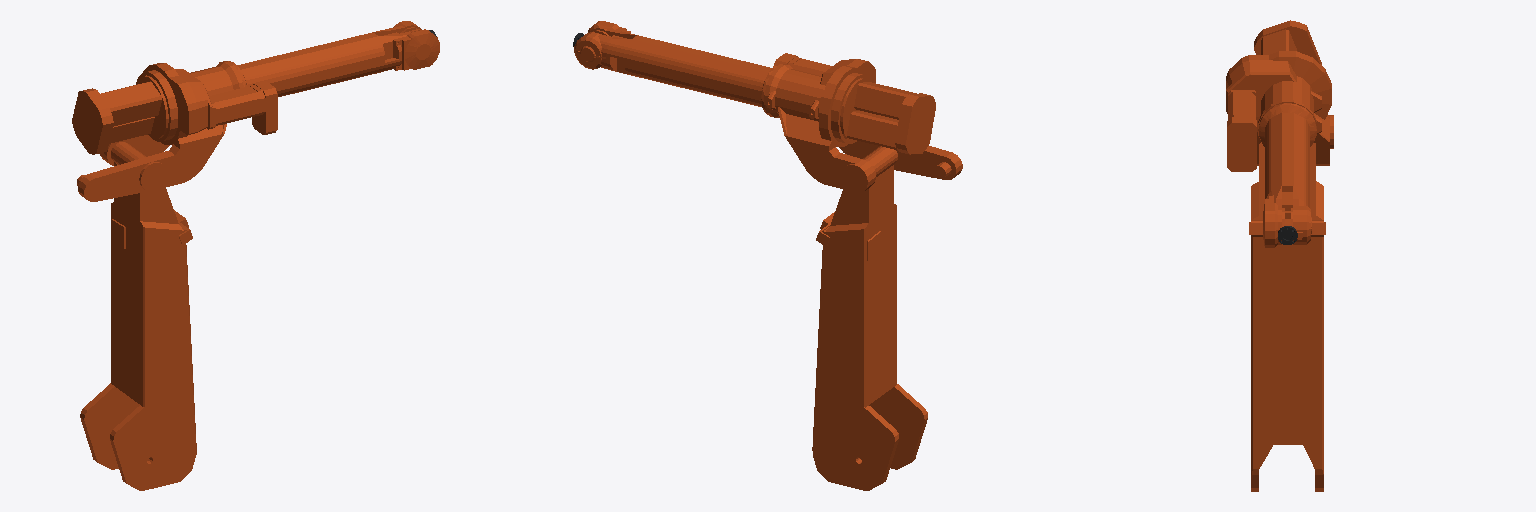
The robot description file, URDF, robot "abb_irb2400":
<?xml version="1.0" ?>
<!-- =================================================================================== -->
<!-- |    This document was autogenerated by xacro from irb2400.xacro                  | -->
<!-- |    EDITING THIS FILE BY HAND IS NOT RECOMMENDED                                 | -->
<!-- =================================================================================== -->
<robot name="abb_irb2400" xmlns:xacro="http://ros.org/wiki/xacro">
  <!-- Conversion were obtained from http://www.e-paint.co.uk/Lab_values.asp
       unless otherwise stated. -->
  <!-- Actual colors -->
  <!-- NCS 2070-Y60R orange, standard robot color 1974 - May 2014 -->
  <!-- RAL 7035 light grey (abb graphite white), standard robot color May 2014 - current -->
  <!-- RAL 9003 signal white (abb white), cleanroom robot color -->
  <!-- RAL 7032 pebble gray, controller -->
  <!-- RAL 7012 basalt gray (abb dark gray) , robot primer -->
  <!-- RAL 7021 black gray (abb black) , robot with dark link color -->
  <!-- Other robot colours availble, but not limited too. -->
  <!-- RAL 3001 signal red -->
  <!-- RAL 3002 carmine red -->
  <!-- RAL 5002 ultramarine blue -->
  <!-- RAL 5015 sky blue -->
  <!-- RAL 6002 leaf green -->
  <!-- RAL 9002 gray white -->
  <!-- RAL 9010 pure white -->
  <!-- approximations -->
  <!-- yellow, collision model -->
  <!-- link list -->

  <link name="world"/>

  <joint name="reference" type="fixed">
      <parent link="world"/>
      <child link="base_link"/>
  </joint>

  <link name="base_link"/>
  
  <link name="base">
    <visual>
      <origin rpy="0 0 0" xyz="0 0 0"/>
      <geometry>
        <mesh filename="package://abb_irb2400_support/meshes/irb2400/visual/base_link.dae"/>
      </geometry>
      <material name="">
        <color rgba="0.7372549 0.3490196 0.1607843 1"/>
      </material>
    </visual>
    <collision>
      <geometry>
        <mesh filename="package://abb_irb2400_support/meshes/irb2400/collision/base_link.stl"/>
      </geometry>
      <material name="">
        <color rgba="1 1 0 1"/>
      </material>
    </collision>
  </link>
  
  <link name="link_1">
    <visual>
      <origin rpy="0 0 0" xyz="0 0 0"/>
      <geometry>
        <mesh filename="package://abb_irb2400_support/meshes/irb2400/visual/link_1.dae"/>
      </geometry>
      <material name="">
        <color rgba="0.7372549 0.3490196 0.1607843 1"/>
      </material>
    </visual>
    <collision>
      <origin rpy="0 0 0" xyz="0 0 0"/>
      <geometry>
        <mesh filename="package://abb_irb2400_support/meshes/irb2400/collision/link_1.stl"/>
      </geometry>
      <material name="">
        <color rgba="1 1 0 1"/>
      </material>
    </collision>
  </link>
  <link name="link_2">
    <visual>
      <origin rpy="0 0 0" xyz="0 0 0"/>
      <geometry>
        <mesh filename="package://abb_irb2400_support/meshes/irb2400/visual/link_2.dae"/>
      </geometry>
      <material name="">
        <color rgba="0.7372549 0.3490196 0.1607843 1"/>
      </material>
    </visual>
    <collision>
      <origin rpy="0 0 0" xyz="0 0 0"/>
      <geometry>
        <mesh filename="package://abb_irb2400_support/meshes/irb2400/collision/link_2_whole.stl"/>
      </geometry>
      <material name="">
        <color rgba="1 1 0 1"/>
      </material>
    </collision>
  </link>
  <link name="link_3">
    <visual>
      <origin rpy="0 0 0" xyz="0 0 0"/>
      <geometry>
        <mesh filename="package://abb_irb2400_support/meshes/irb2400/visual/link_3.dae"/>
      </geometry>
      <material name="">
        <color rgba="0.7372549 0.3490196 0.1607843 1"/>
      </material>
    </visual>
    <collision>
      <origin rpy="0 0 0" xyz="0 0 0"/>
      <geometry>
        <mesh filename="package://abb_irb2400_support/meshes/irb2400/collision/link_3.stl"/>
      </geometry>
      <material name="">
        <color rgba="1 1 0 1"/>
      </material>
    </collision>
  </link>
  <link name="link_4">
    <visual>
      <origin rpy="0 0 0" xyz="0 0 0"/>
      <geometry>
        <mesh filename="package://abb_irb2400_support/meshes/irb2400/visual/link_4.dae"/>
      </geometry>
      <material name="">
        <color rgba="0.7372549 0.3490196 0.1607843 1"/>
      </material>
    </visual>
    <collision>
      <origin rpy="0 0 0" xyz="0 0 0"/>
      <geometry>
        <mesh filename="package://abb_irb2400_support/meshes/irb2400/collision/link_4.stl"/>
      </geometry>
      <material name="">
        <color rgba="1 1 0 1"/>
      </material>
    </collision>
  </link>
  <link name="link_5">
    <visual>
      <origin rpy="0 0 0" xyz="0 0 0"/>
      <geometry>
        <mesh filename="package://abb_irb2400_support/meshes/irb2400/visual/link_5.dae"/>
      </geometry>
      <material name="">
        <color rgba="0.7372549 0.3490196 0.1607843 1"/>
      </material>
    </visual>
    <collision>
      <origin rpy="0 0 0" xyz="0 0 0"/>
      <geometry>
        <mesh filename="package://abb_irb2400_support/meshes/irb2400/collision/link_5.stl"/>
      </geometry>
      <material name="">
        <color rgba="1 1 0 1"/>
      </material>
    </collision>
  </link>
  <link name="link_6">
    <visual>
      <origin rpy="0 0 0" xyz="0 0 0"/>
      <geometry>
        <mesh filename="package://abb_irb2400_support/meshes/irb2400/visual/link_6.dae"/>
      </geometry>
      <material name="">
        <color rgba="0.1882353 0.1960784 0.2039216 1"/>
      </material>
    </visual>
    <collision>
      <origin rpy="0 0 0" xyz="0 0 0"/>
      <geometry>
        <mesh filename="package://abb_irb2400_support/meshes/irb2400/collision/link_6.stl"/>
      </geometry>
      <material name="">
        <color rgba="1 1 0 1"/>
      </material>
    </collision>
  </link>
  <link name="tool0"/>
  <!-- end of link list -->

  <!-- joint list -->
  <joint name="joint_1" type="revolute">
    <origin rpy="0 0 0" xyz="0 0 0"/>
    <parent link="base"/>
    <child link="link_1"/>
    <axis xyz="0 0 1"/>
    <limit effort="0" lower="-3.1416" upper="3.1416" velocity="2.618"/>
  </joint>
  <joint name="joint_2" type="revolute">
    <origin rpy="0 0 0" xyz="0.1 0 0.615"/>
    <parent link="link_1"/>
    <child link="link_2"/>
    <axis xyz="0 1 0"/>
    <limit effort="0" lower="-1.7453" upper="1.9199" velocity="2.618"/>
  </joint>
  <joint name="joint_3" type="revolute">
    <origin rpy="0 0 0" xyz="0 0 0.855"/>
    <parent link="link_2"/>
    <child link="link_3"/>
    <axis xyz="0 1 0"/>
    <limit effort="0" lower="-1.0472" upper="1.1345" velocity="2.618"/>
  </joint>
  <joint name="joint_4" type="revolute">
    <origin rpy="0 0 0" xyz="0.306 0 0.150"/>
    <parent link="link_3"/>
    <child link="link_4"/>
    <axis xyz="1 0 0"/>
    <limit effort="0" lower="-3.49" upper="3.49" velocity="6.2832"/>
  </joint>
  <joint name="joint_5" type="revolute">
    <origin rpy="0 0 0" xyz="0.564 0 0"/>
    <parent link="link_4"/>
    <child link="link_5"/>
    <axis xyz="0 1 0"/>
    <limit effort="0" lower="-2.0944" upper="2.0944" velocity="6.2832"/>
  </joint>
  <joint name="joint_6" type="revolute">
    <origin rpy="0 0 0" xyz="0.065 0 0"/>
    <parent link="link_5"/>
    <child link="link_6"/>
    <axis xyz="1 0 0"/>
    <limit effort="0" lower="-6.9813" upper="6.9813" velocity="7.854"/>
  </joint>
  <joint name="joint_6-tool0" type="fixed">
    <parent link="link_6"/>
    <child link="tool0"/>
    <origin rpy="0 1.57079632679 0" xyz="0 0 0"/>
  </joint>
  <!-- end of joint list -->
  
  <!-- ROS base_link to ABB World Coordinates transform -->
  <joint name="base_link-base" type="fixed">
    <origin rpy="0 0 0" xyz="0 0 0"/>
    <parent link="base_link"/>
    <child link="base"/>
  </joint>
</robot>

--- What the picture shows (computed from the rendered views, not written in the file) ---
Views: 3 orthographic renders of the robot side by side, from view 1: azimuth 30°, elevation 25°; view 2: azimuth 150°, elevation 25°; view 3: azimuth 270°, elevation 25°.
Robot: abb_irb2400 — 10 links, 9 joints (6 revolute, 3 fixed); root link world; default pose: all joints at 0.
Links seen in each view (by area): view 1: link_2, link_3, link_4; view 2: link_2, link_3, link_4; view 3: link_2, link_3, link_4.
Link boxes in pixels (left/top/right/bottom): link_2: left=80, top=142, right=196, bottom=490; link_3: left=72, top=61, right=277, bottom=201; link_4: left=229, top=21, right=439, bottom=96; link_2: left=812, top=146, right=927, bottom=490; link_3: left=764, top=53, right=962, bottom=193; link_4: left=574, top=21, right=779, bottom=114; link_2: left=1249, top=142, right=1325, bottom=491; link_3: left=1226, top=20, right=1333, bottom=171; link_4: left=1258, top=103, right=1316, bottom=247.
Size in the robot's own frame: 1.15 by 0.266 by 1.2 metres.
5 mesh visuals loaded from 7 distinct referenced files (5 Collada DAE); not drawn: 2 (reference not matched to a file when rendering).